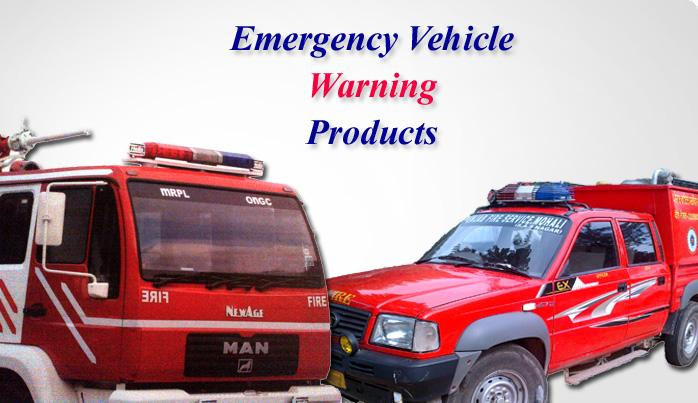Emergency-Vehicles: (0, 145, 348, 403), (322, 190, 698, 403)
